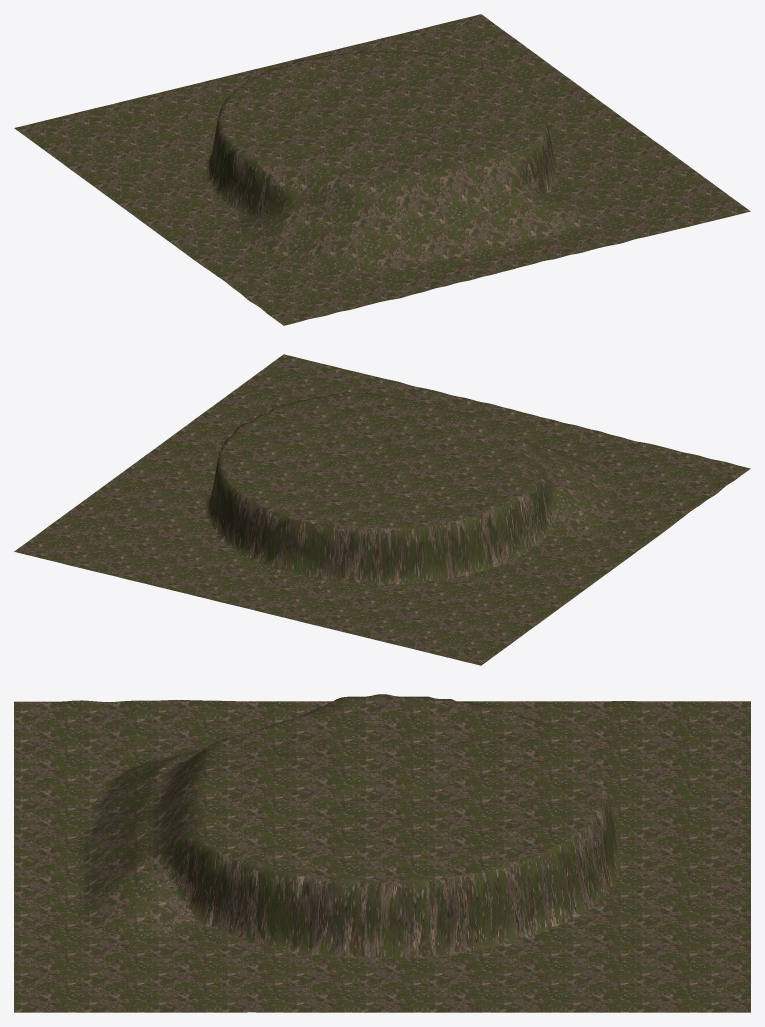
The model's file is island.obj.
3 renders of one model, top to bottom at view 1: azimuth 30°, elevation 25°; view 2: azimuth 150°, elevation 25°; view 3: azimuth 270°, elevation 25°, orthographic. The views are drawn at different scales.
Parts seen in each view (by area): view 1: island; view 2: island; view 3: island.
Part boxes in pixels (left/top/right/bottom): island: left=14, top=14, right=750, bottom=325; island: left=14, top=354, right=750, bottom=665; island: left=14, top=694, right=750, bottom=1012.
Size of the model in its own units: 64 by 6.93 by 64.
1 material, 1 textured.
